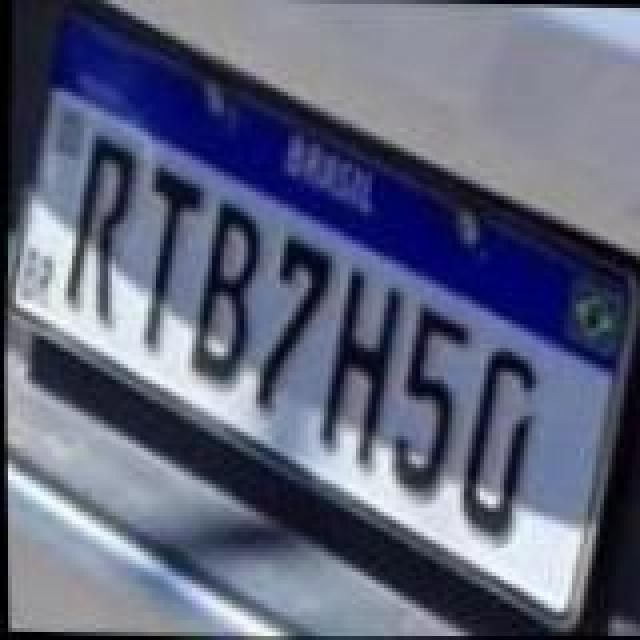5: (380, 300, 472, 496)
7: (248, 228, 336, 412)
B: (182, 194, 266, 386)
D: (452, 346, 544, 542)
H: (306, 268, 402, 468)
R: (56, 130, 140, 326)
T: (138, 166, 210, 350)
